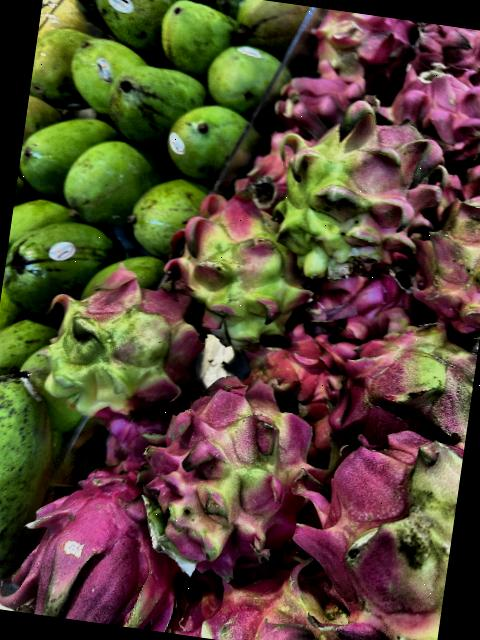buah-naga-belum-matang: (118, 359, 314, 581), (278, 413, 466, 640), (266, 81, 450, 287), (32, 261, 216, 417), (162, 178, 326, 342), (338, 307, 480, 458), (200, 552, 385, 640), (403, 172, 480, 334)
buah-naga-matang: (22, 444, 184, 632), (243, 324, 360, 434), (390, 52, 480, 162), (306, 8, 414, 86), (267, 59, 361, 133), (298, 262, 397, 330), (408, 22, 480, 85), (231, 130, 290, 202)
